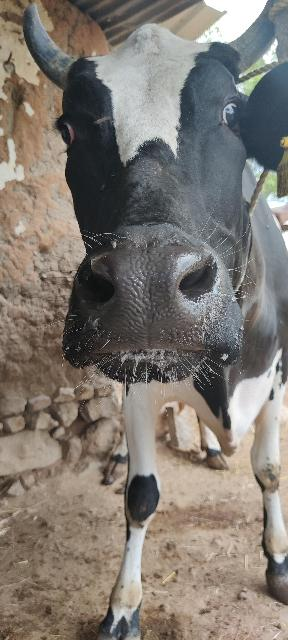Muzzle: (87, 238, 227, 352)
